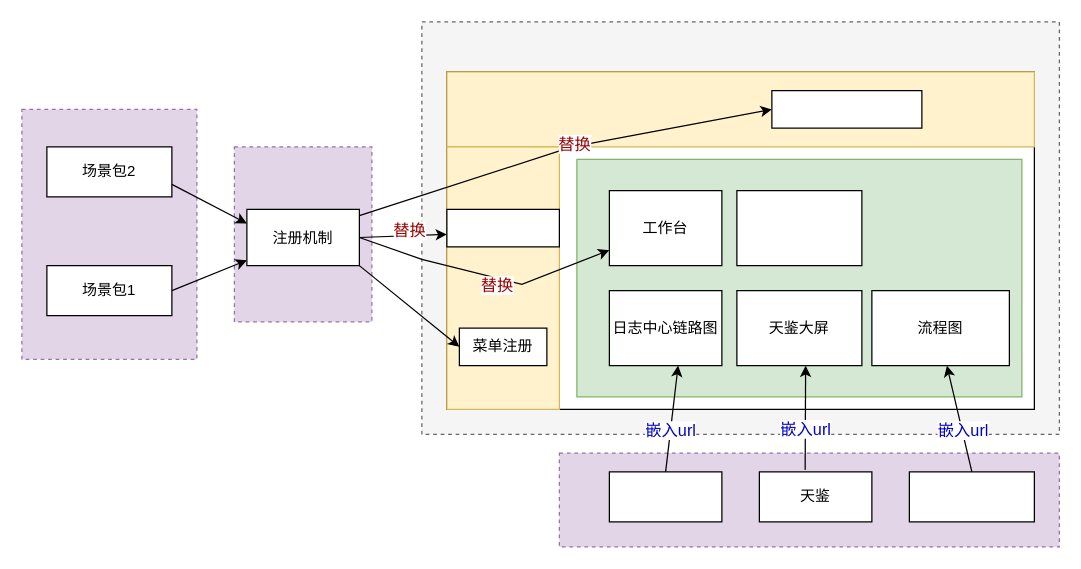
This 1081x569 diagram has some shape labels left out. Each missing label, with the centre of its shape:
see控制台: pixel 971 496
侧边菜单: pixel 502 227
其他: pixel 799 227
日志中心: pixel 665 496
顶部菜单: pixel 846 108
